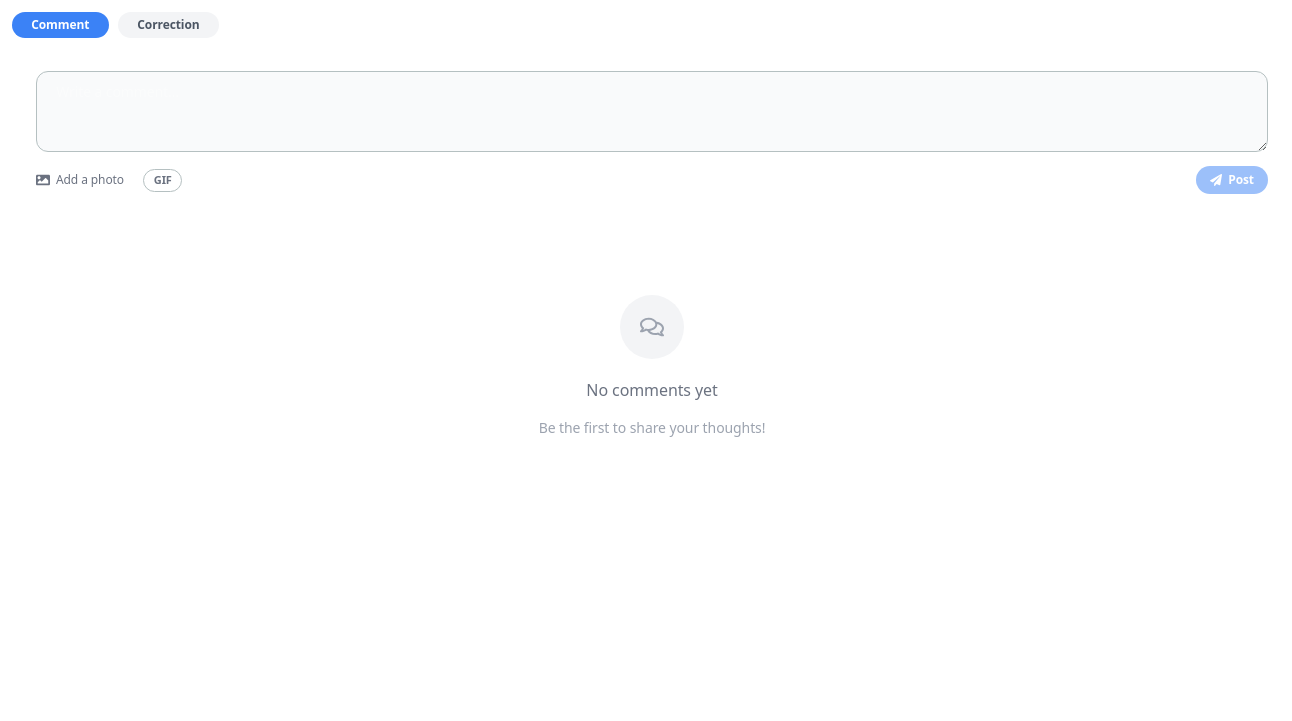
Test case: CommentList › offers a correction composer alongside the comment composer
Click the button with test id "comments-mode-correction".
click(168, 25)  # box 118,12 -> 219,38
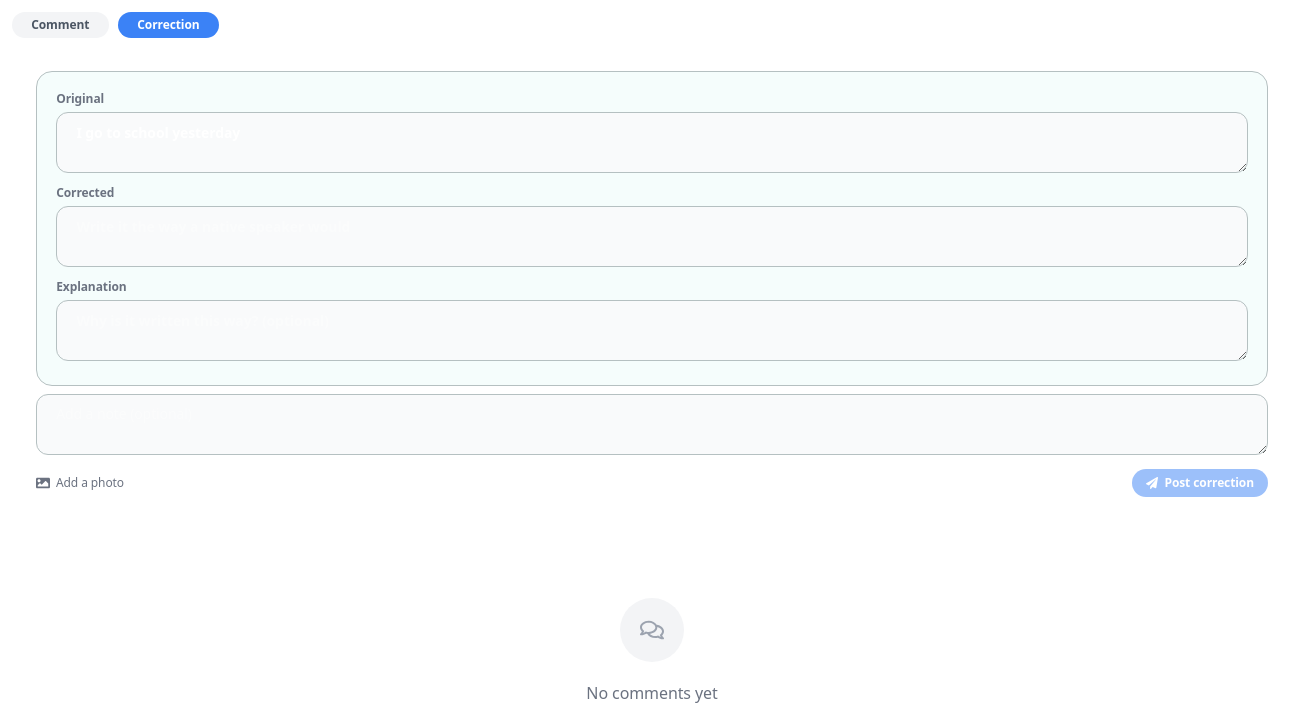
Expected: the text box with test id "comment-composer-original" holds "I go to school yesterday", 56,112 -> 1248,173
